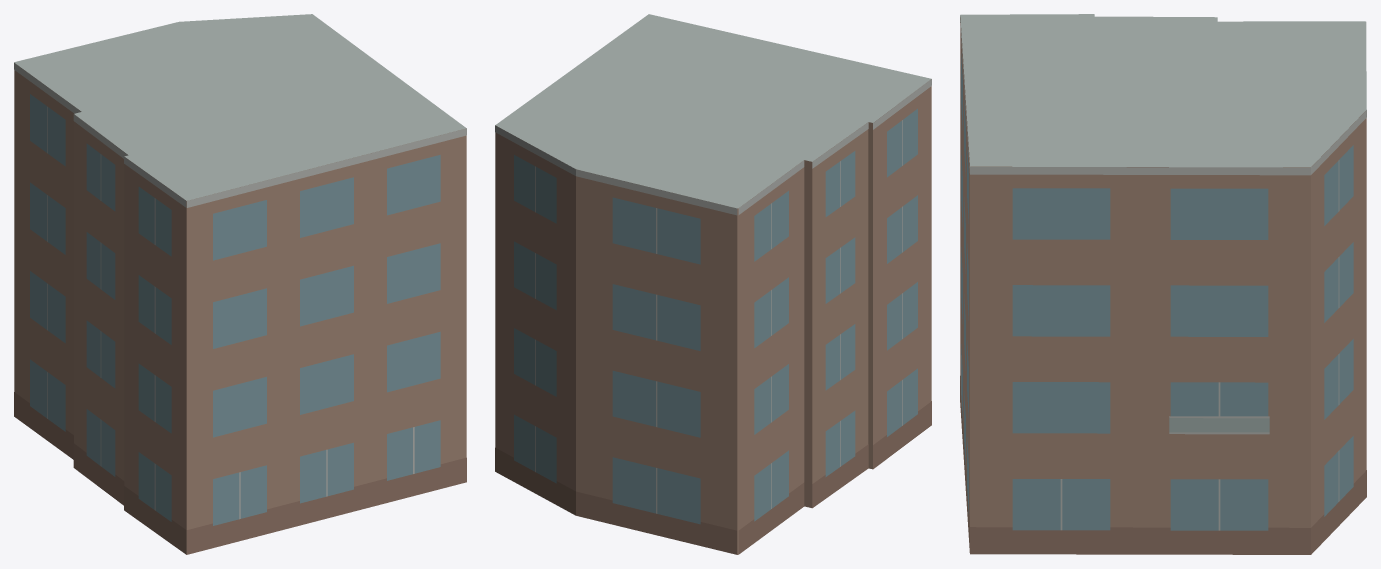
Rendered from survey-upis-32619587.glb.
3 views of the same model, side by side, from view 1: azimuth 30°, elevation 25°; view 2: azimuth 150°, elevation 25°; view 3: azimuth 270°, elevation 25° (orthographic). The views are drawn at different scales.
Visible parts, largest first — view 1: survey-upis-32619587.tmp; view 2: survey-upis-32619587.tmp; view 3: survey-upis-32619587.tmp.
Boxes of the visible parts, box(x1,y1,x2,y2) form: survey-upis-32619587.tmp: box(14, 14, 466, 554); survey-upis-32619587.tmp: box(495, 14, 931, 554); survey-upis-32619587.tmp: box(960, 14, 1366, 554).
Size of the model in its own units: 10.27 by 12.05 by 11.46.
